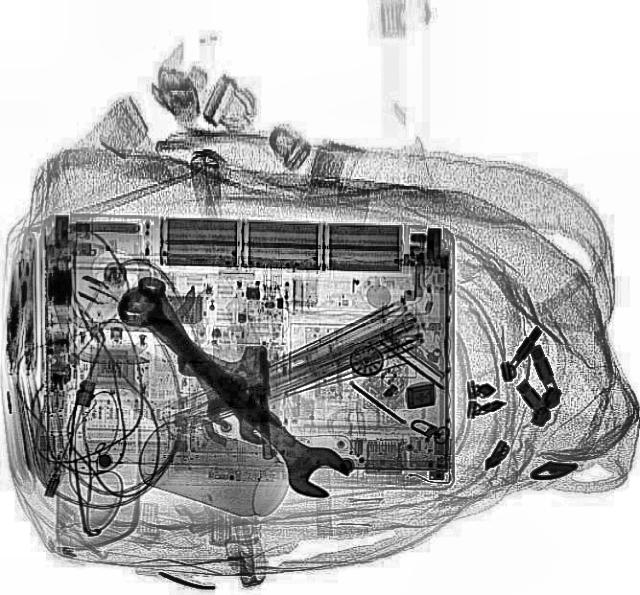Gun: (178, 344, 270, 460)
Wrench: (101, 272, 357, 508), (124, 266, 286, 450)
